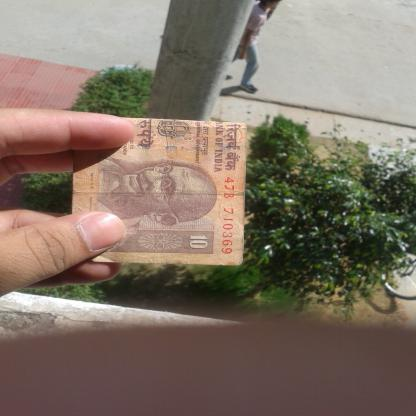Old10Front: (70, 117, 250, 267)
